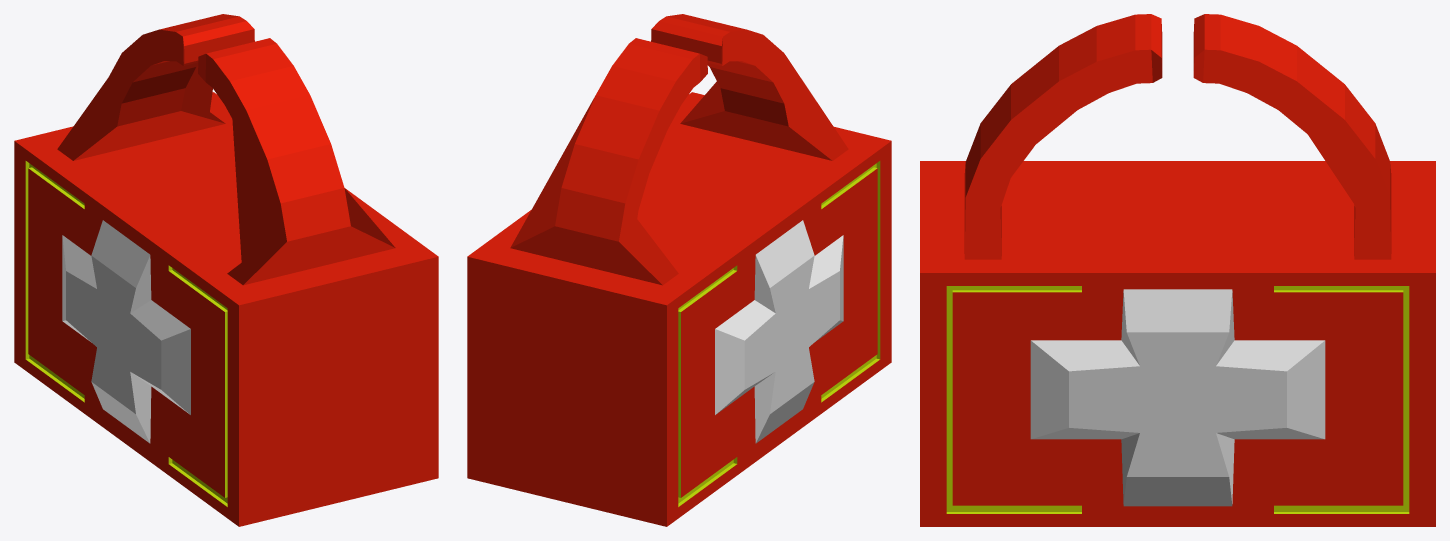
Rendered from healthkit.fbx.
3 views of the same model, side by side, from view 1: azimuth 30°, elevation 25°; view 2: azimuth 150°, elevation 25°; view 3: azimuth 270°, elevation 25° (orthographic). The views are drawn at different scales.
Visible parts, largest first — view 1: Cube; view 2: Cube; view 3: Cube.
Part boxes in pixels (x1,y1,x2,y2): Cube: (14, 14, 438, 526); Cube: (467, 14, 891, 526); Cube: (920, 14, 1435, 526).
Size of the model in its own units: 85.51 by 139 by 148.
